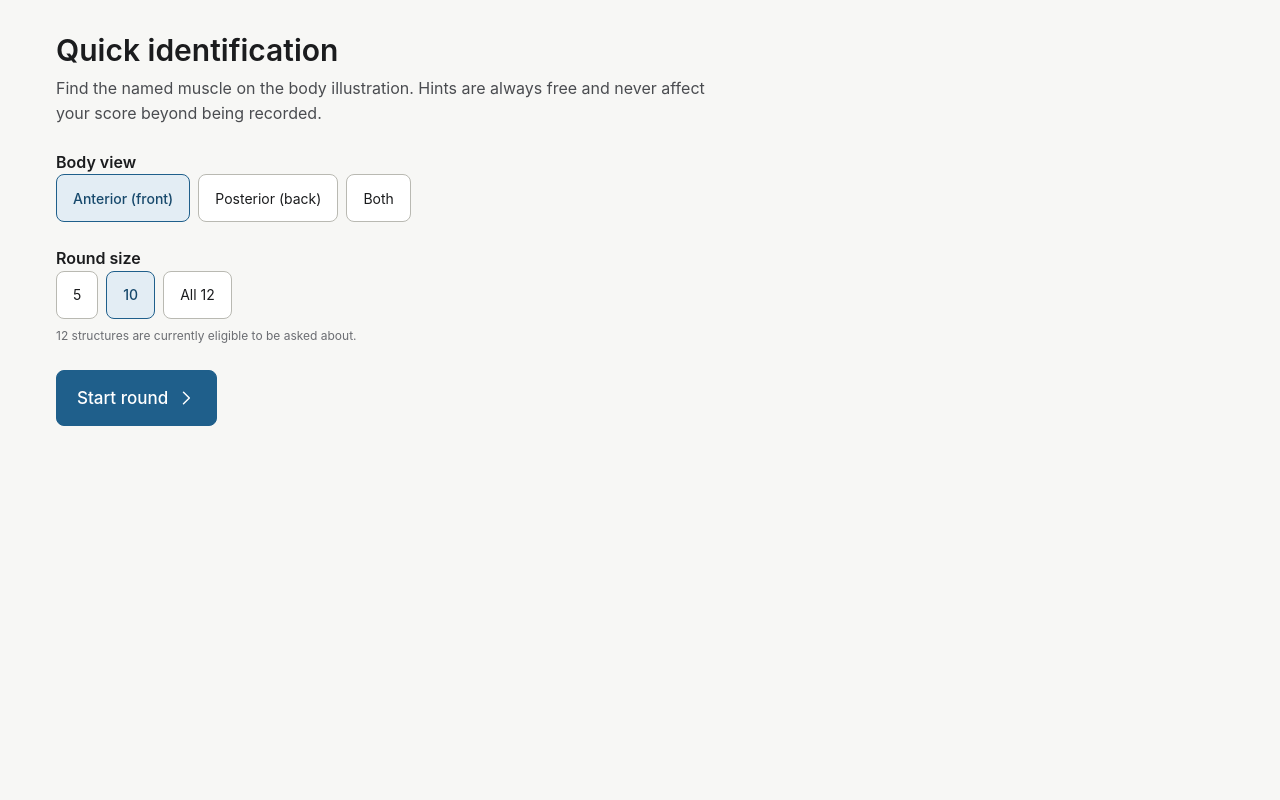
Test: Identify mode with published content › offers a free hint that does not punish the learner
Click the button "Start round": (137, 398) top-left (56, 370), bottom-right (217, 426)
(page scrolled)
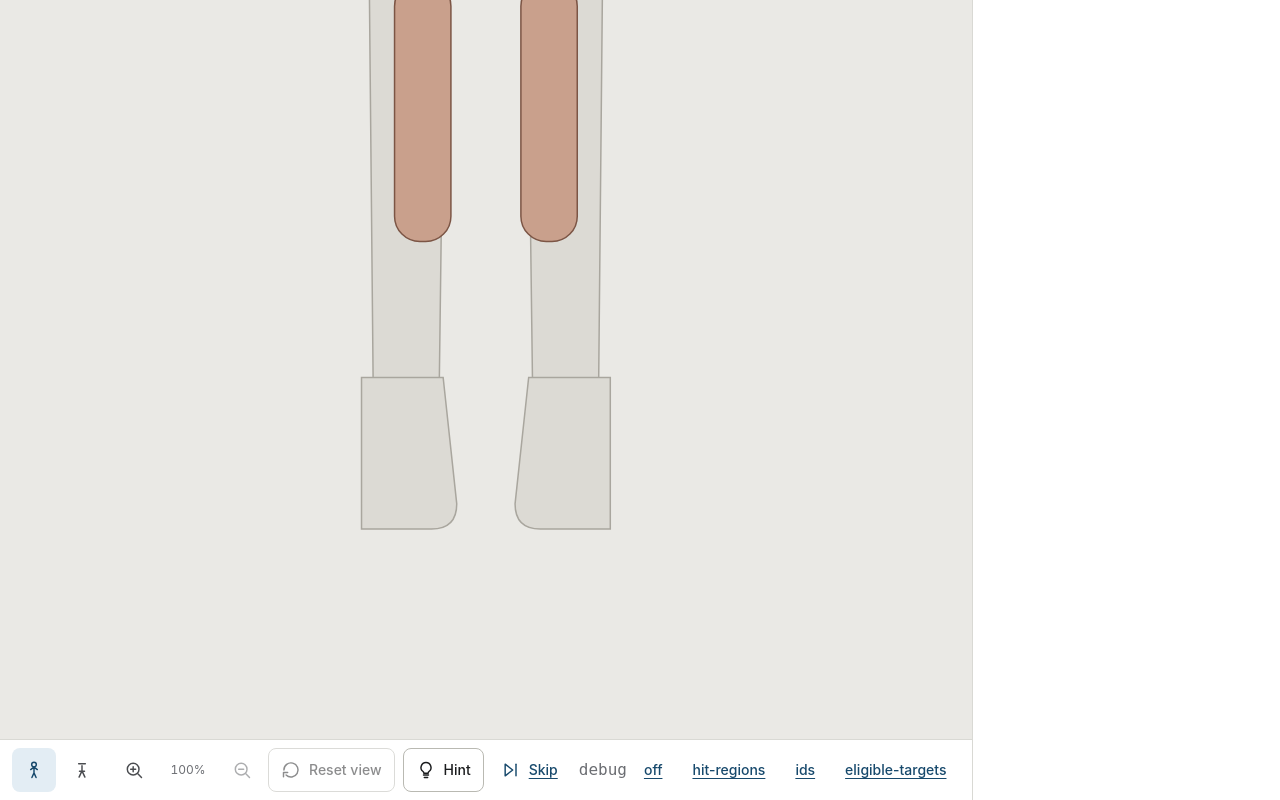
Click the button "Hint": (443, 770) top-left (402, 748), bottom-right (484, 792)
(page scrolled)
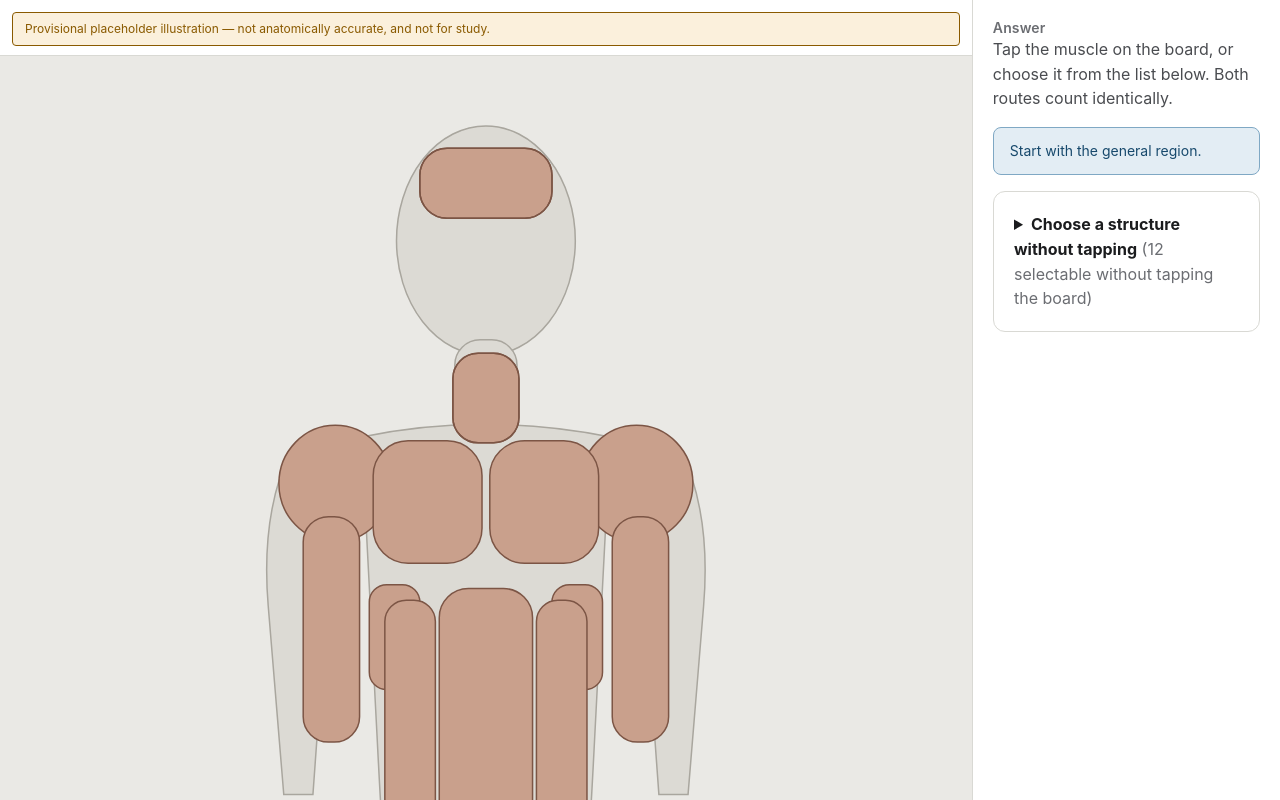
Check: the text "Start with the general region." is shown, box top-left (993, 127), bottom-right (1260, 175)
